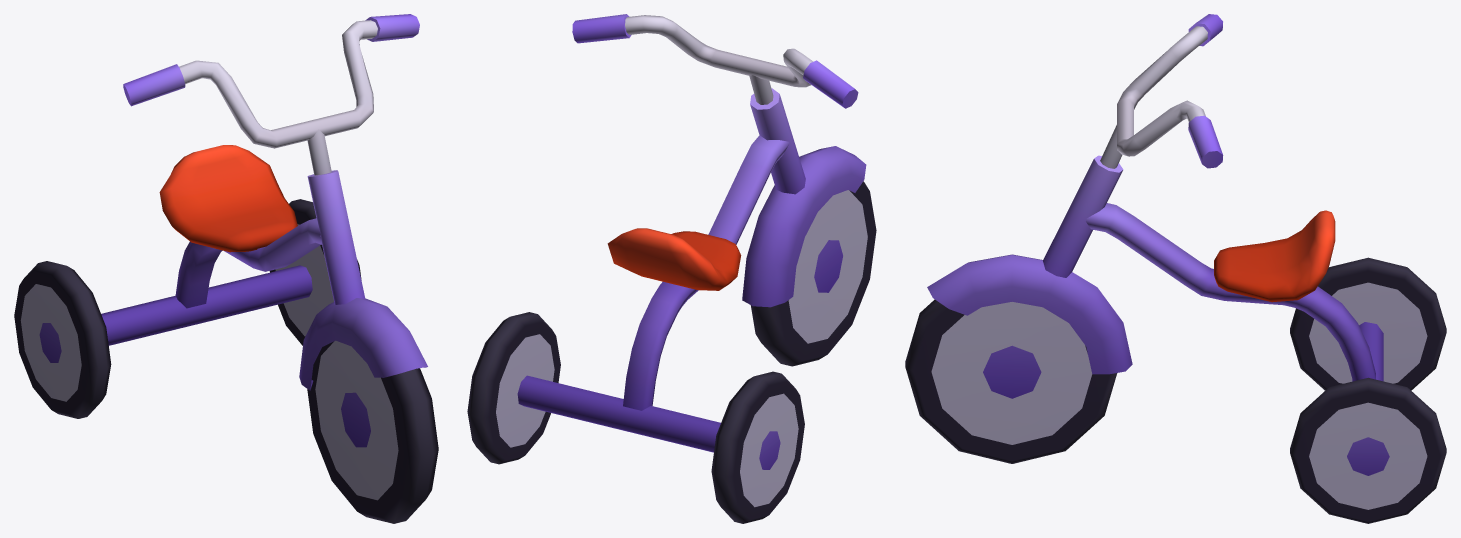
The model's file is bike.fbx.
3 renders of one model, left to right at view 1: azimuth 30°, elevation 25°; view 2: azimuth 150°, elevation 25°; view 3: azimuth 270°, elevation 25°, orthographic. The views are drawn at different scales.
Visible parts, largest first — view 1: bike; view 2: bike; view 3: bike.
Part boxes in pixels (x1=…): bike: x1=14, y1=14, x2=438, y2=523; bike: x1=467, y1=14, x2=876, y2=523; bike: x1=905, y1=14, x2=1446, y2=523.
Bounding box in the file's own units: 36.69 × 48.83 × 60.86.
